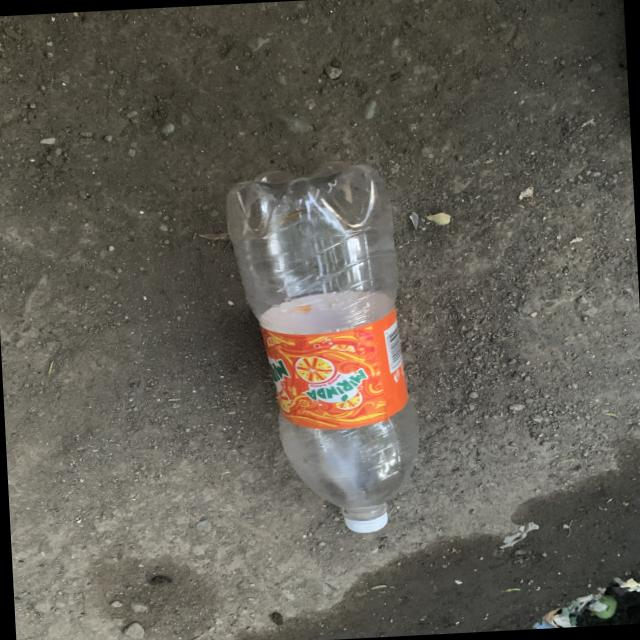Bottle: (227, 162, 419, 532)
